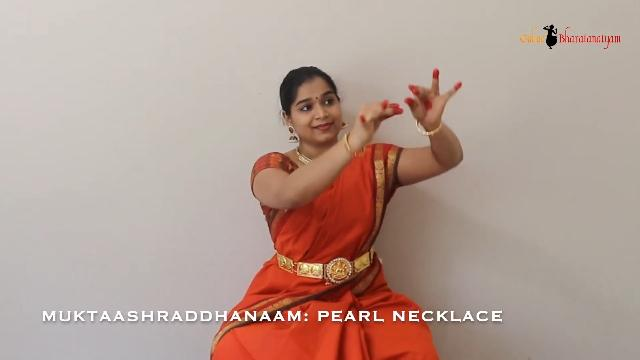katak: (398, 63, 480, 128)
